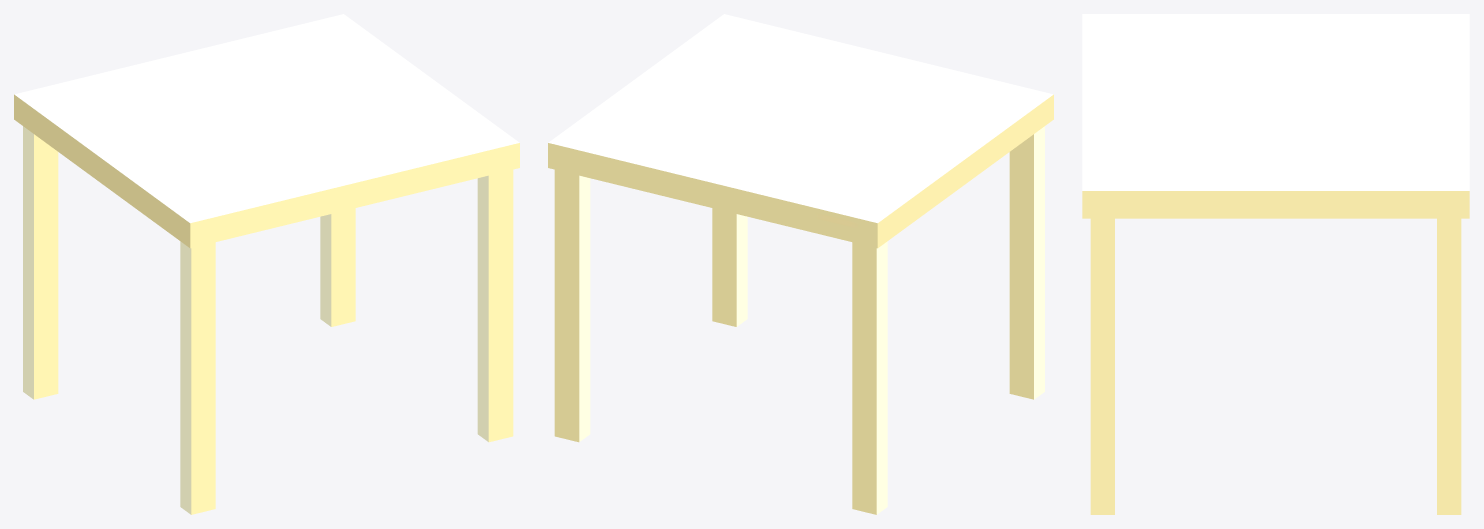
File: bench.003.glb
3 views of the same model, side by side, from view 1: azimuth 30°, elevation 25°; view 2: azimuth 150°, elevation 25°; view 3: azimuth 270°, elevation 25° (orthographic). The views are drawn at different scales.
Visible parts, largest first — view 1: bench.003(Clone); view 2: bench.003(Clone); view 3: bench.003(Clone).
Boxes of the visible parts, x1,y1,x2,y2 form: bench.003(Clone): (14, 14, 519, 514); bench.003(Clone): (548, 14, 1053, 514); bench.003(Clone): (1082, 14, 1469, 514).
Size of the model in its own units: 0.7646 by 0.6553 by 0.7072.
1 material, 1 textured.
